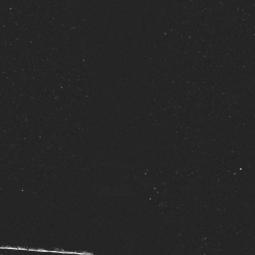xmm_newton: (0, 228, 107, 255)
